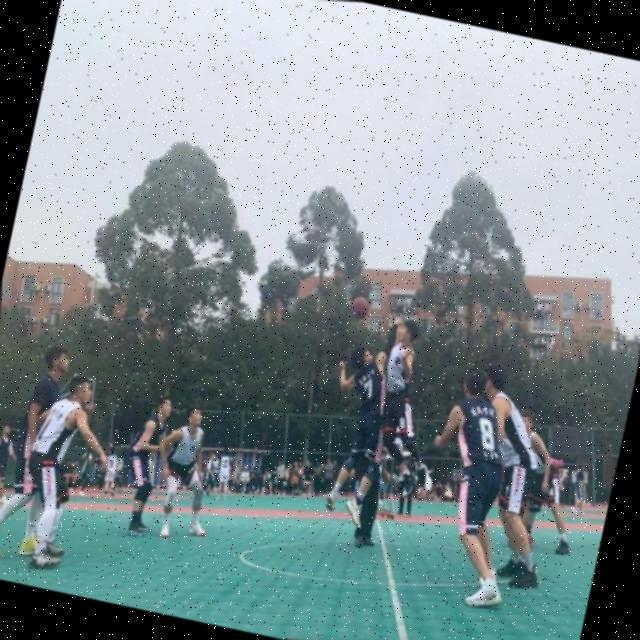ball: (346, 293, 374, 324)
